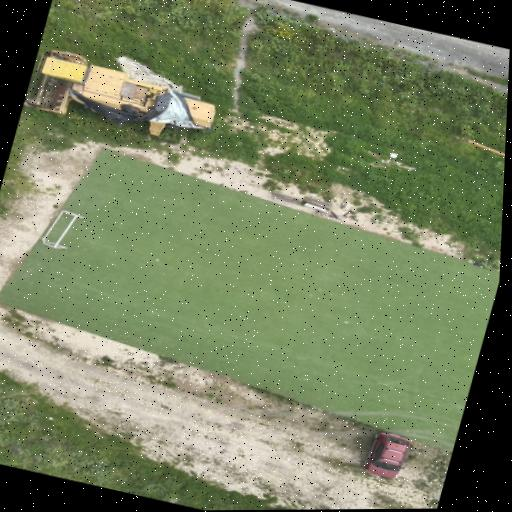car: (366, 433, 410, 478)
harvester: (26, 51, 215, 136)
